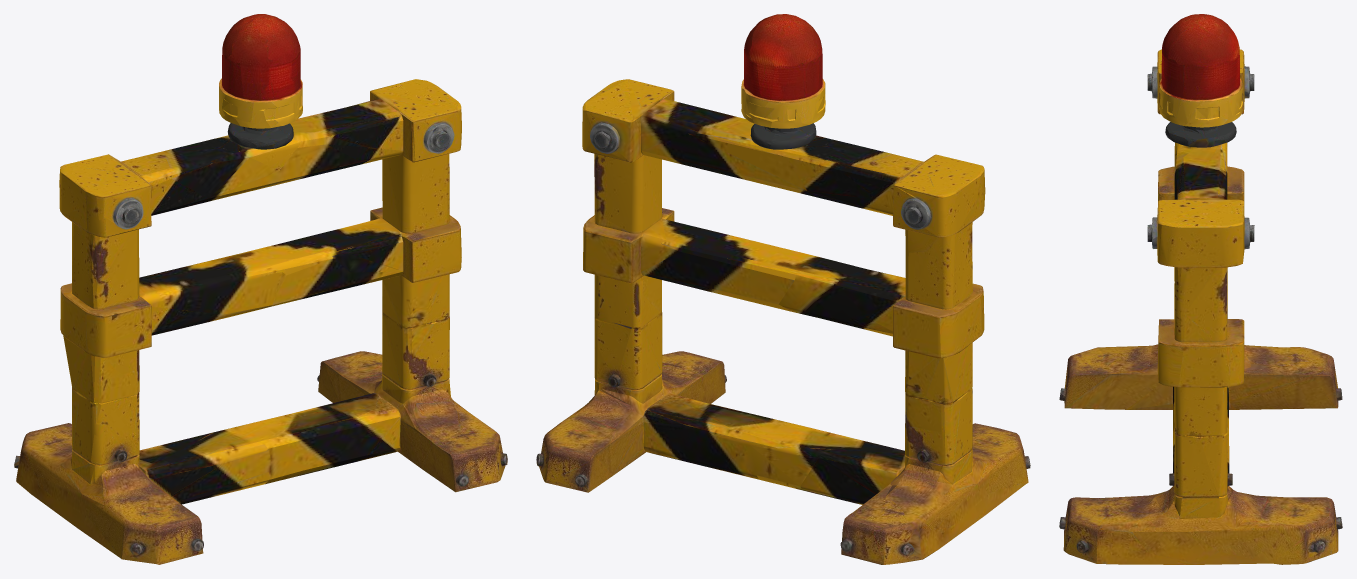
Rendered from hazard_barrier.glb.
3 views of the same model, side by side, from view 1: azimuth 30°, elevation 25°; view 2: azimuth 150°, elevation 25°; view 3: azimuth 270°, elevation 25° (orthographic).
Parts seen in each view (by area): view 1: Mesh_0; view 2: Mesh_0; view 3: Mesh_0.
Boxes of the visible parts, x1,y1,x2,y2 form: Mesh_0: [14, 14, 507, 564]; Mesh_0: [536, 14, 1030, 564]; Mesh_0: [1059, 14, 1342, 564].
Size of the model in its own units: 1.68 by 1.9 by 1.07.
1 material, 1 textured.
